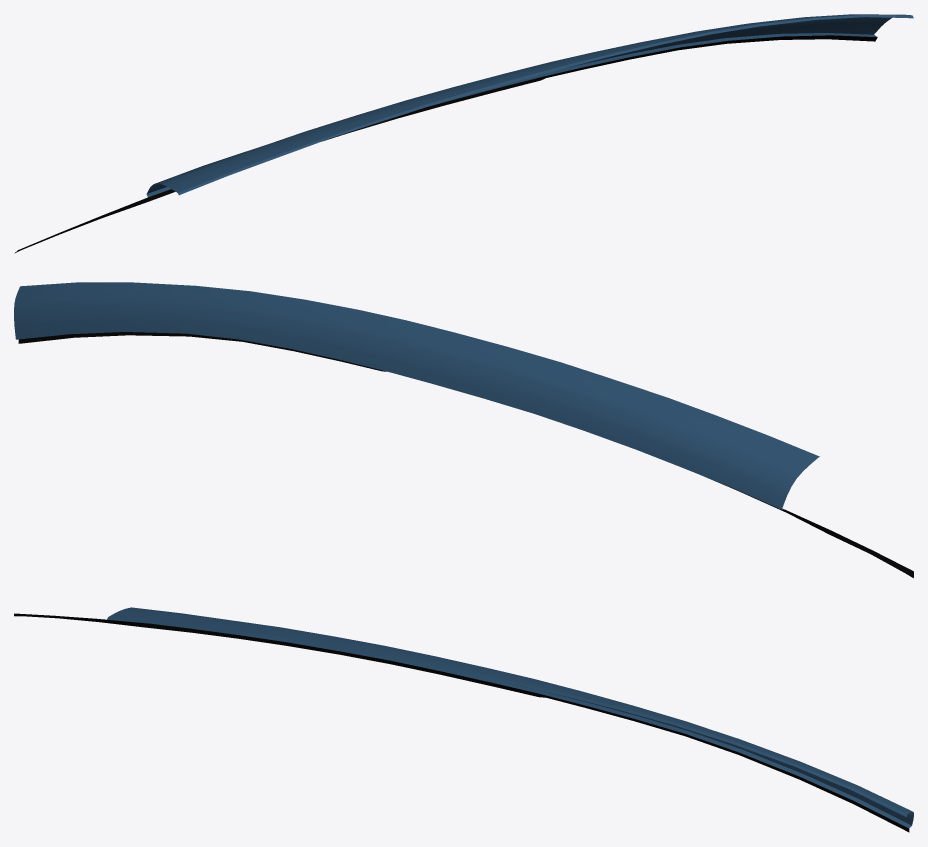
The picture shows the model from 3 angles, top to bottom: view 1: azimuth 30°, elevation 25°; view 2: azimuth 150°, elevation 25°; view 3: azimuth 330°, elevation 25°; orthographic projection. The views are drawn at different scales.
Visible parts, largest first — view 1: Y191_13_18A5_L_DaS_Y191_13_18A5_L, Y191_13_18A5_L_DaS_Y191_13_18A5_L_E, Y191_13_18A5_L_Y191_13_18A5_L_D; view 2: Y191_13_18A5_L_DaS_Y191_13_18A5_L, Y191_13_18A5_L_Y191_13_18A5_L_D; view 3: Y191_13_18A5_L_DaS_Y191_13_18A5_L, Y191_13_18A5_L_DaS_Y191_13_18A5_L_E, Y191_13_18A5_L_Y191_13_18A5_L_D.
Boxes of the visible parts, x1=… form: Y191_13_18A5_L_DaS_Y191_13_18A5_L: x1=147, y1=14, x2=910, y2=193; Y191_13_18A5_L_DaS_Y191_13_18A5_L_E: x1=146, y1=15, x2=913, y2=197; Y191_13_18A5_L_Y191_13_18A5_L_D: x1=14, y1=35, x2=877, y2=253; Y191_13_18A5_L_DaS_Y191_13_18A5_L: x1=14, y1=282, x2=819, y2=509; Y191_13_18A5_L_Y191_13_18A5_L_D: x1=18, y1=332, x2=913, y2=577; Y191_13_18A5_L_DaS_Y191_13_18A5_L: x1=108, y1=607, x2=913, y2=825; Y191_13_18A5_L_DaS_Y191_13_18A5_L_E: x1=107, y1=617, x2=911, y2=828; Y191_13_18A5_L_Y191_13_18A5_L_D: x1=14, y1=613, x2=909, y2=832.
Size of the model in its own units: 121 by 12.02 by 9.5.
